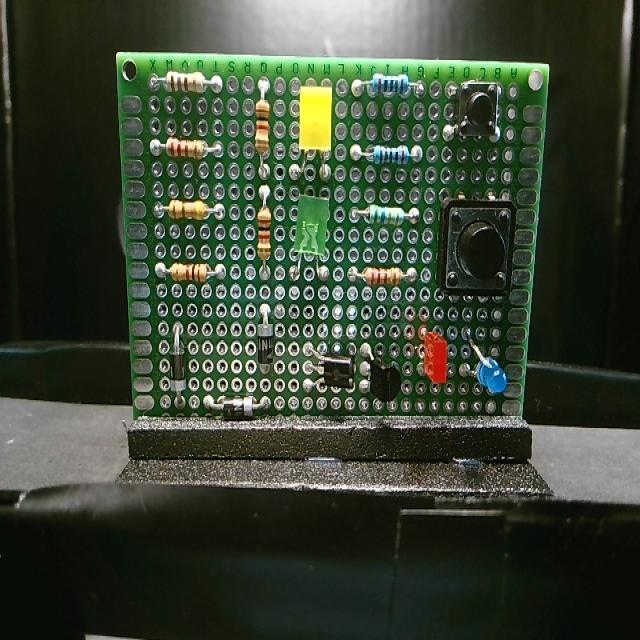diode: (256, 321, 276, 373), (168, 344, 188, 395), (217, 397, 256, 421)
led: (298, 84, 334, 156), (294, 192, 330, 264), (472, 344, 506, 396), (422, 328, 451, 382)
resistor: (367, 70, 412, 101), (162, 66, 208, 94), (364, 198, 406, 227), (166, 200, 210, 227), (162, 136, 207, 162), (167, 261, 212, 285), (368, 139, 408, 166), (253, 97, 271, 154), (362, 264, 404, 286), (257, 204, 272, 258)
switch: (436, 196, 514, 298), (452, 79, 500, 140)
transistor: (366, 356, 404, 403), (319, 348, 356, 390)
